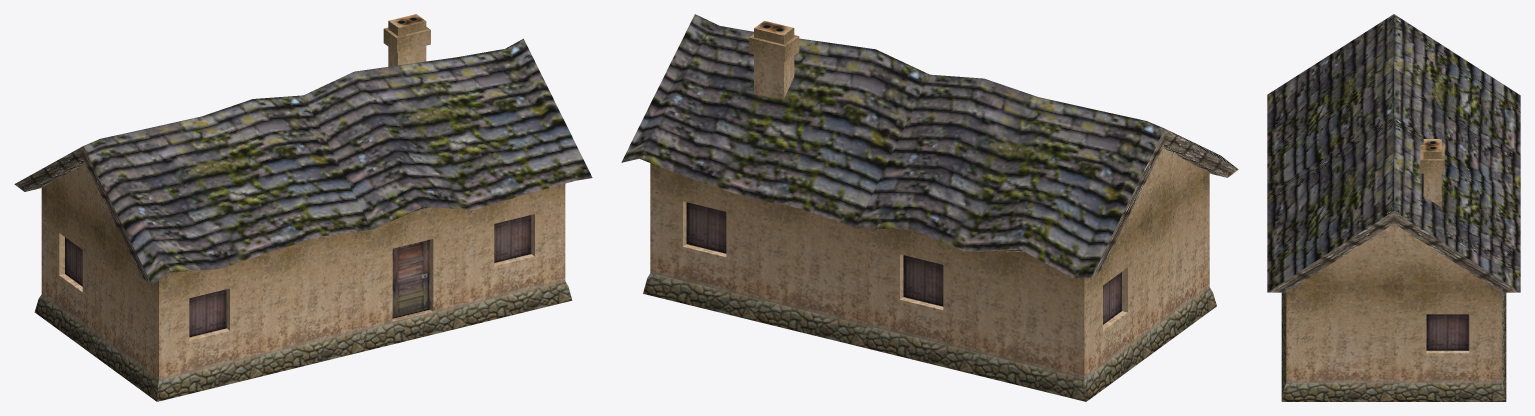
The model's file is s44_b_house_2_2.dae.
The picture shows the model from 3 angles, left to right: view 1: azimuth 30°, elevation 25°; view 2: azimuth 150°, elevation 25°; view 3: azimuth 270°, elevation 25°; orthographic projection. The views are drawn at different scales.
Visible parts, largest first — view 1: Untitled; view 2: Untitled; view 3: Untitled.
Part boxes in pixels (x1,y1,x2,y2): Untitled: [14, 14, 592, 401]; Untitled: [621, 14, 1238, 401]; Untitled: [1267, 14, 1520, 401].
Bounding box in the file's own units: 104 × 56.55 × 54.08.
1 material, 1 textured.
